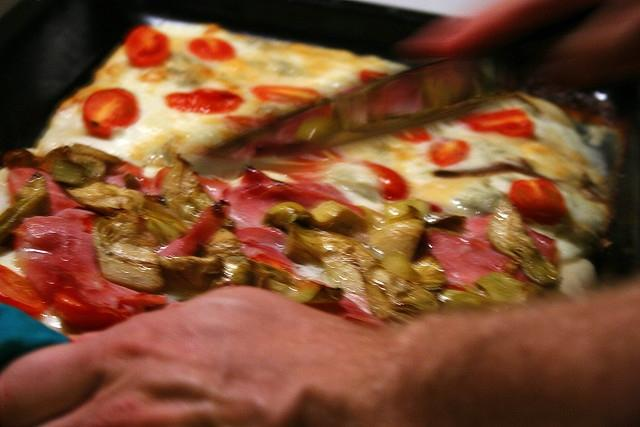mushroom: (92, 210, 190, 292), (283, 222, 381, 298), (486, 192, 560, 286), (208, 254, 346, 303), (160, 155, 236, 228), (437, 271, 542, 310), (0, 170, 49, 247), (263, 200, 365, 232), (62, 180, 147, 212), (158, 255, 224, 293), (451, 183, 505, 215), (375, 252, 421, 285), (196, 227, 245, 257), (411, 254, 446, 291), (53, 157, 92, 188), (67, 153, 107, 178), (415, 213, 467, 228)
tomato: (54, 288, 125, 332), (82, 88, 140, 140), (459, 108, 536, 140), (508, 179, 566, 221), (0, 264, 47, 315), (164, 87, 244, 116), (242, 244, 306, 278), (360, 162, 410, 202), (124, 26, 170, 68), (254, 86, 322, 106), (429, 138, 471, 168), (190, 38, 234, 60), (392, 124, 432, 144), (358, 68, 389, 84), (310, 150, 328, 158)
